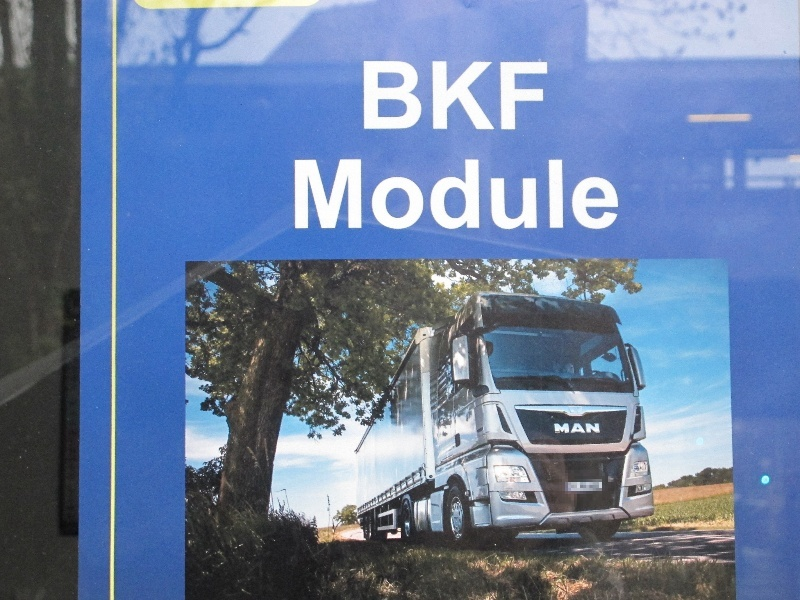text: (305, 159, 320, 230), (321, 159, 336, 230), (337, 159, 352, 230), (353, 159, 368, 230), (369, 159, 384, 230), (385, 159, 400, 230), (401, 159, 416, 230), (417, 159, 432, 230), (433, 159, 448, 230), (449, 159, 464, 230), (465, 159, 480, 230), (481, 159, 496, 230), (497, 159, 512, 230), (513, 159, 528, 230), (529, 159, 544, 230), (545, 159, 560, 230), (561, 159, 576, 230), (577, 159, 592, 230), (593, 159, 608, 230), (369, 63, 384, 130), (385, 63, 400, 130), (401, 63, 416, 130), (417, 63, 432, 130), (433, 63, 448, 130), (449, 63, 464, 130), (465, 63, 480, 130), (481, 63, 496, 130), (497, 63, 512, 130), (513, 63, 528, 130), (529, 63, 544, 130), (295, 159, 304, 230), (609, 159, 618, 230), (364, 63, 368, 130), (545, 63, 548, 130), (561, 424, 576, 434), (577, 424, 592, 434), (593, 424, 600, 434), (555, 424, 560, 434)
